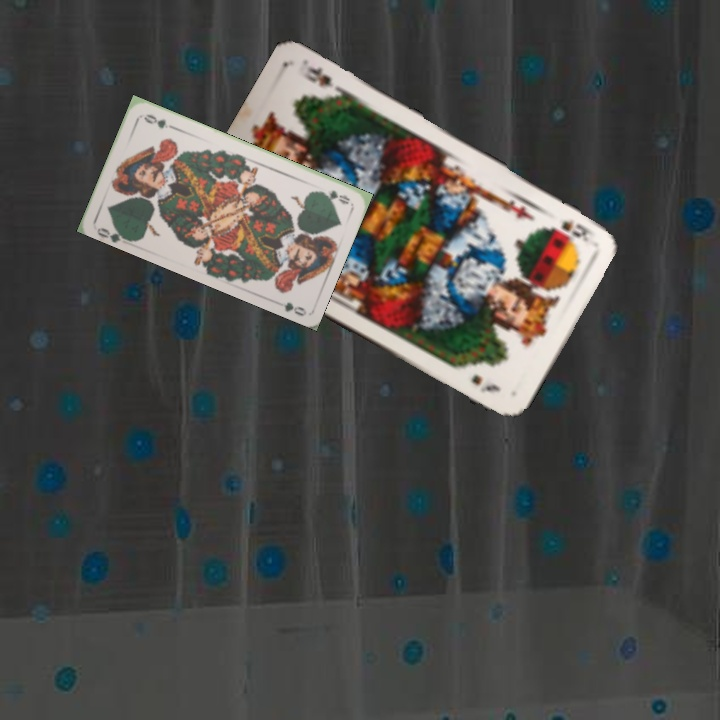GO: (93, 221, 132, 244), (313, 186, 352, 207)
SK: (556, 215, 599, 245)
